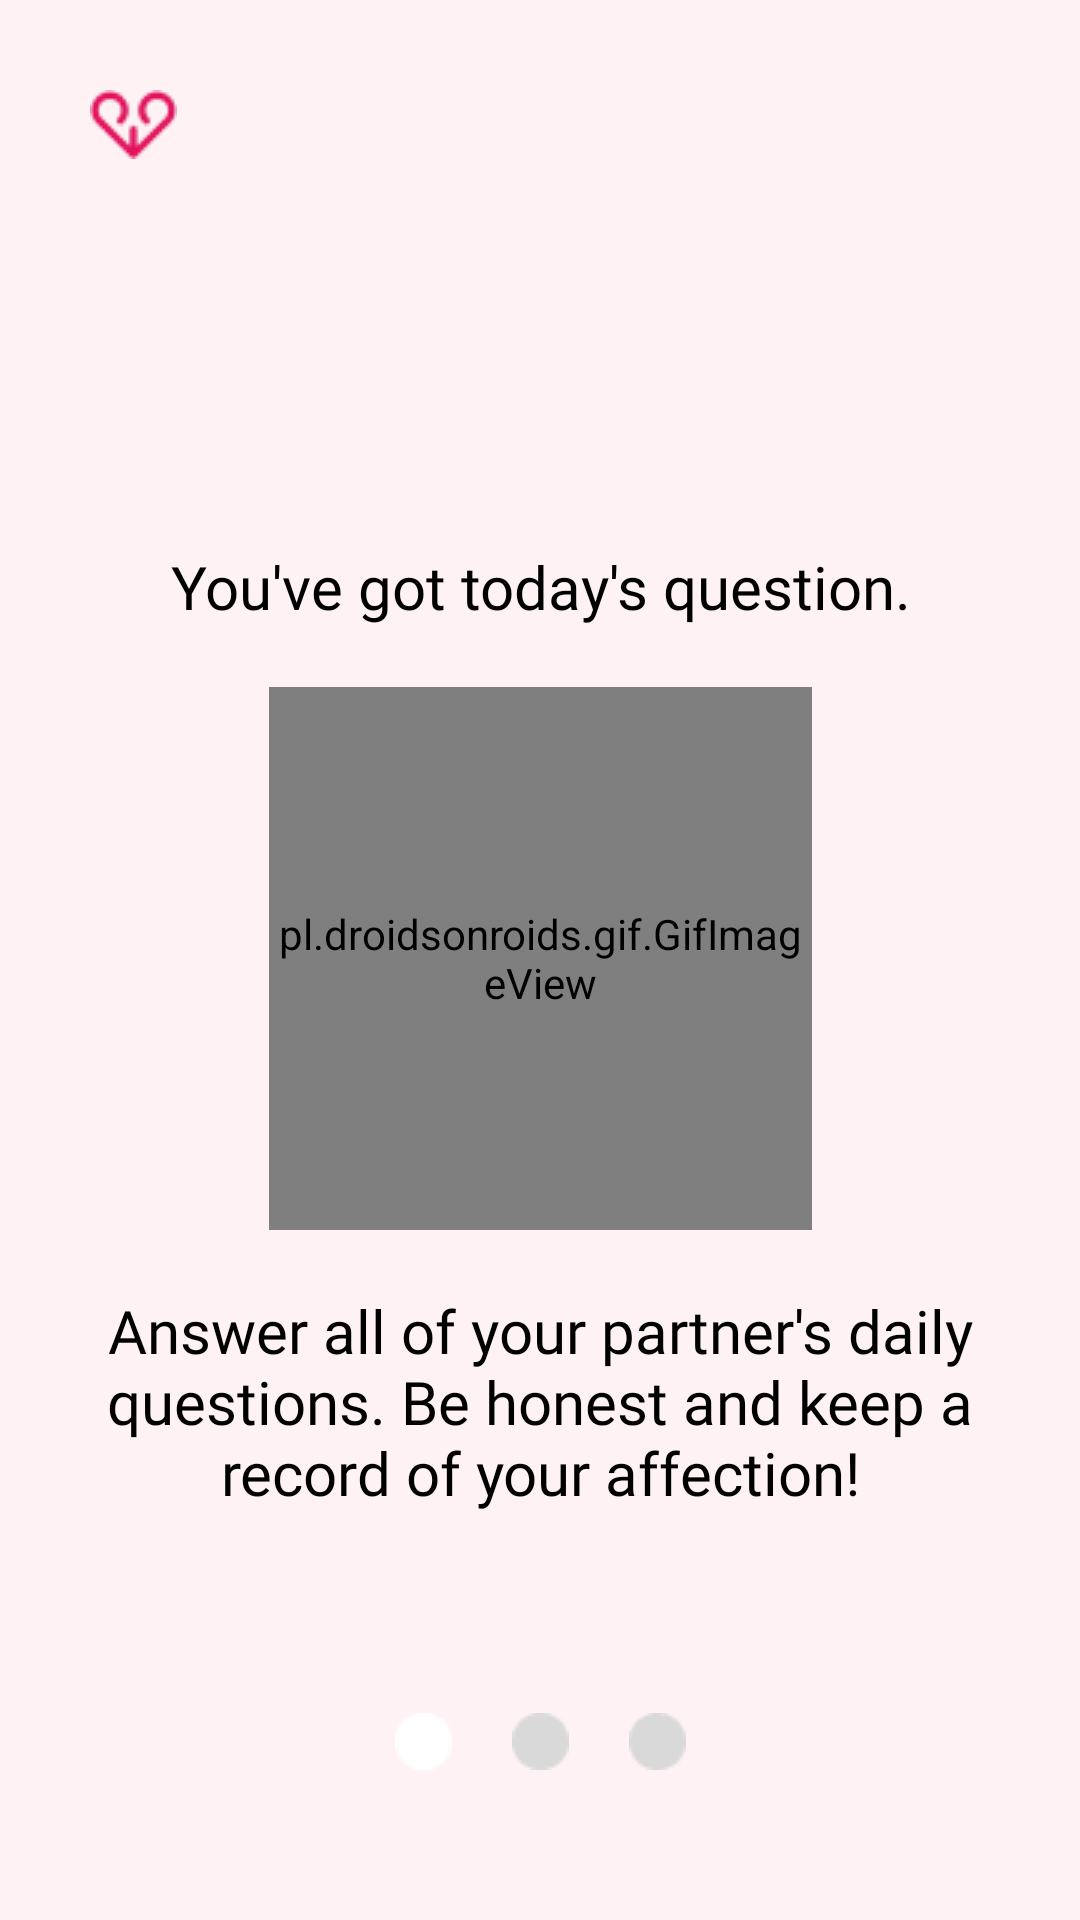

Where to tap for icons on this 1080w x 1920h app screen, as [x,y]:
mini heart: [133,124]
